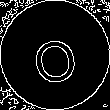O_N: (28, 25, 82, 85)
